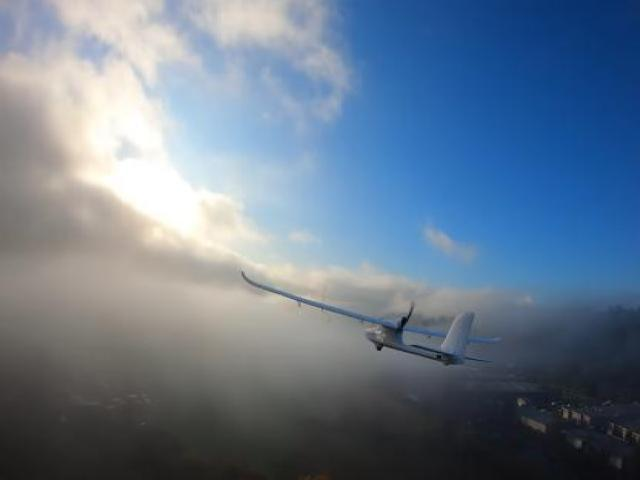uav: (232, 260, 508, 379)
